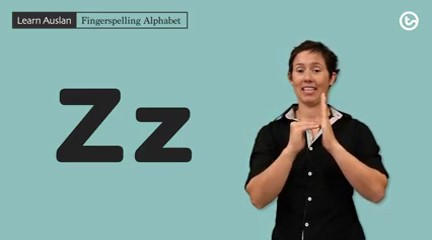Z: (277, 90, 343, 160)
